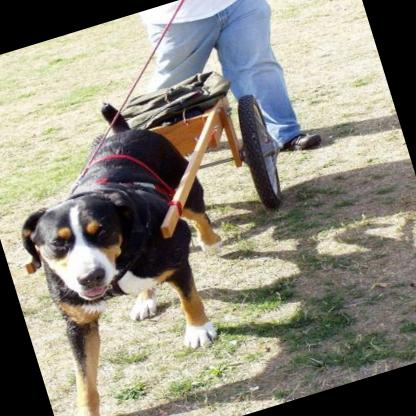Greater_Swiss_Mountain_dog: (0, 79, 269, 416)
